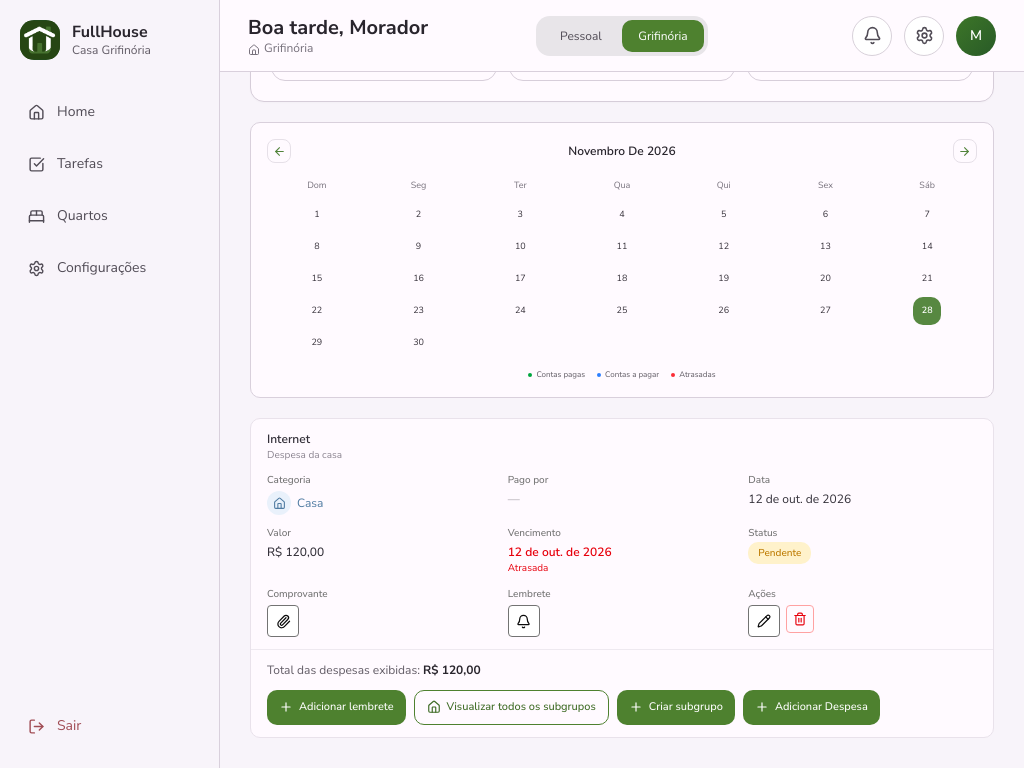
it: FinancePage expense CRUD › edits an expense and shows the updated values
This screenshot has width=1024, height=768.
(page scrolled)
Click the button named "Editar Internet": (764, 621) [748, 605, 780, 637]
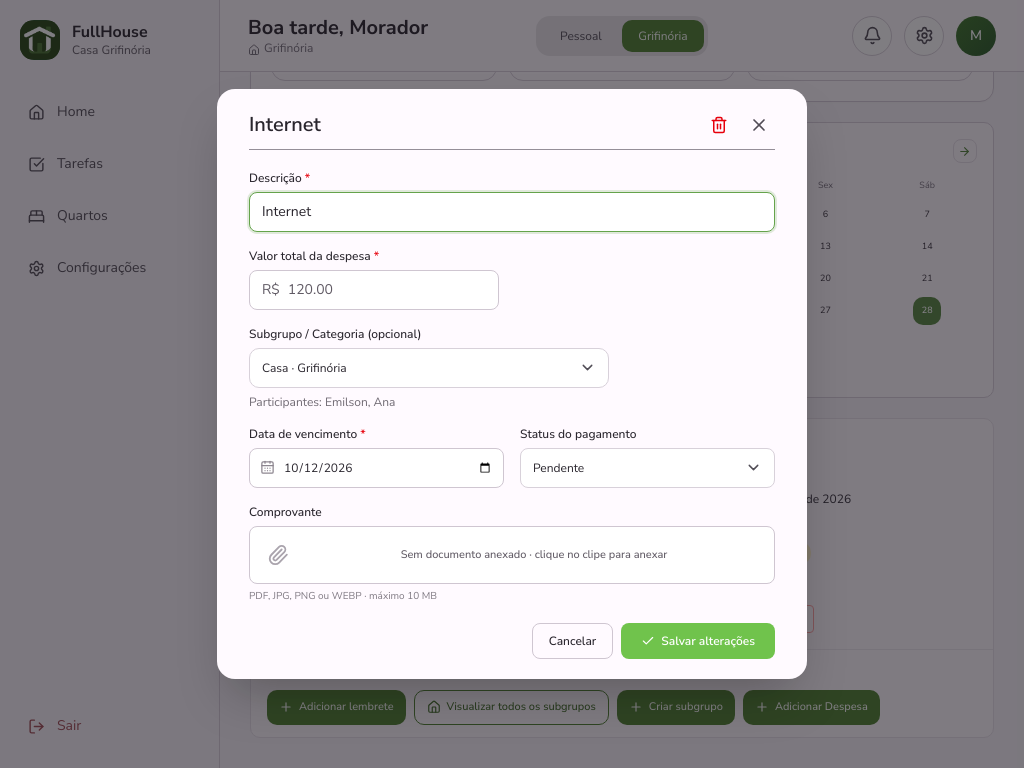
Replace the text in the field labelled "Descrição *" with "Internet fibra": (512, 212) [249, 192, 775, 232]
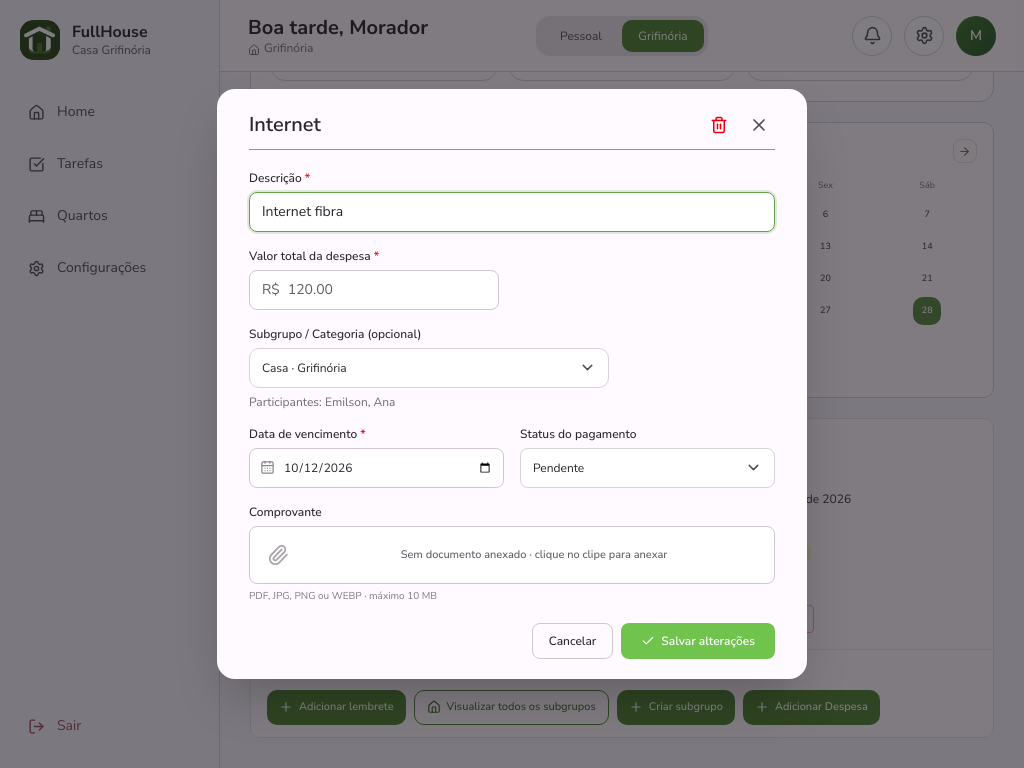
Click the button "Salvar alterações": (698, 641) [621, 623, 775, 659]
(page scrolled)
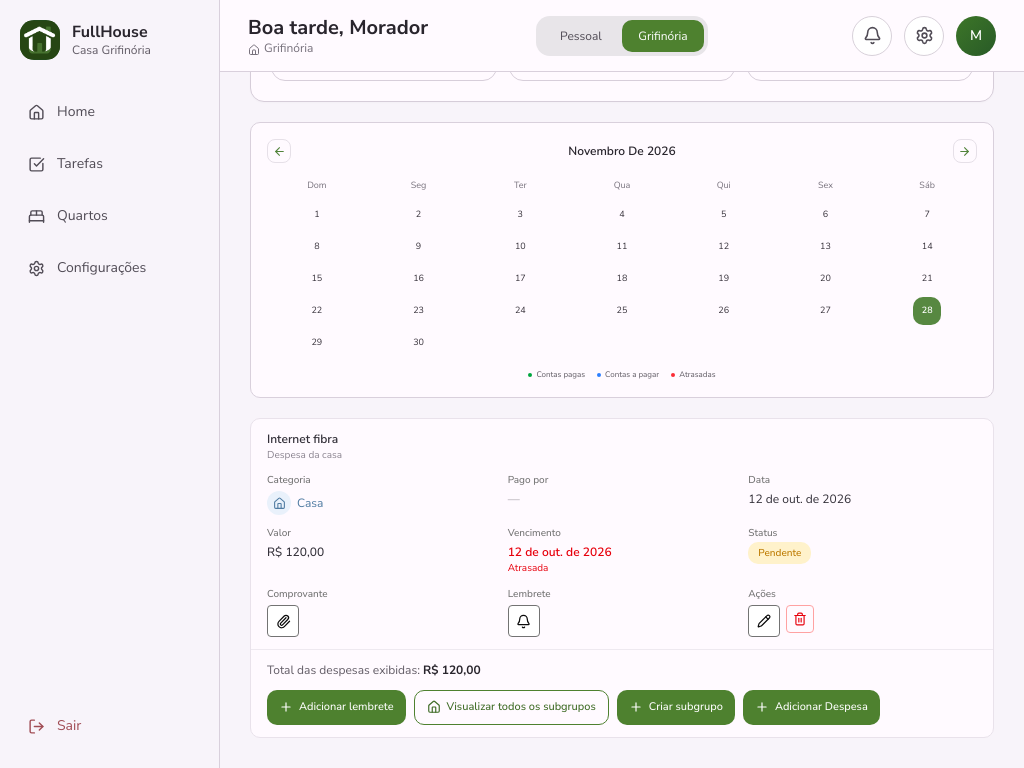
Check: the row "Internet fibra" is shown, box [251, 418, 993, 649]
